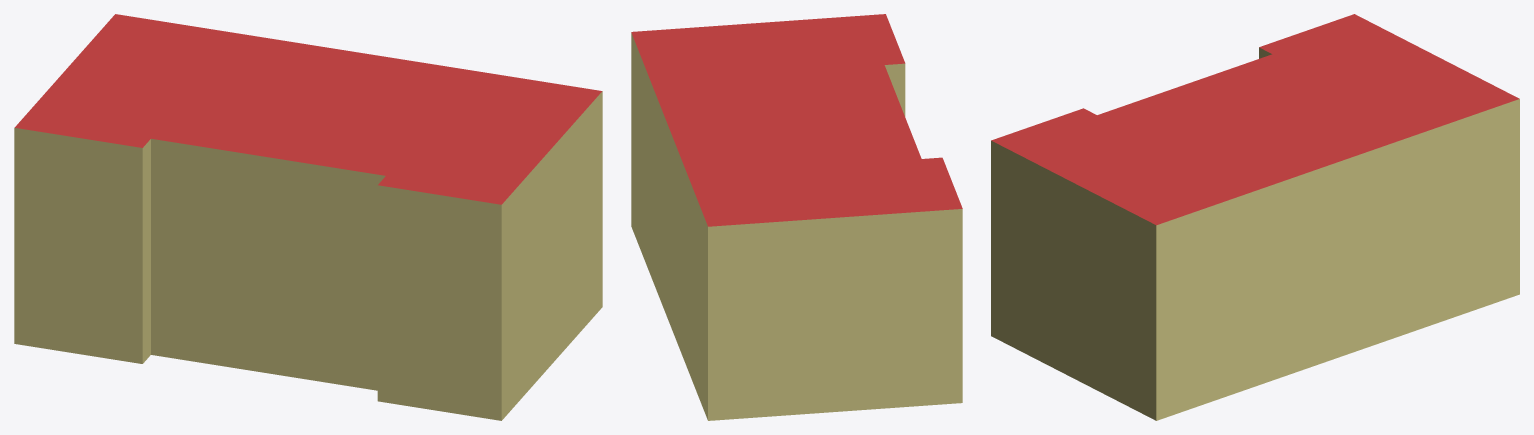
The picture shows the model from 3 angles, left to right: view 1: azimuth 30°, elevation 25°; view 2: azimuth 150°, elevation 25°; view 3: azimuth 270°, elevation 25°; orthographic projection. The views are drawn at different scales.
Bounding box in the file's own units: 12.24 × 12.94 × 5.28.
